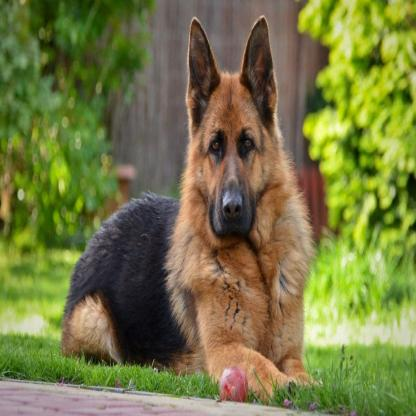dog: (63, 21, 310, 396)
